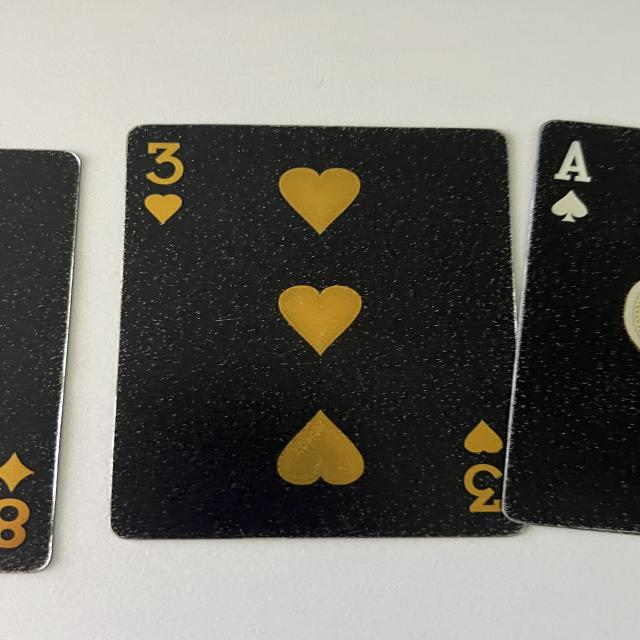3H: (140, 138, 192, 229), (462, 419, 505, 515)
8D: (0, 452, 40, 556)
AS: (544, 139, 594, 228)
